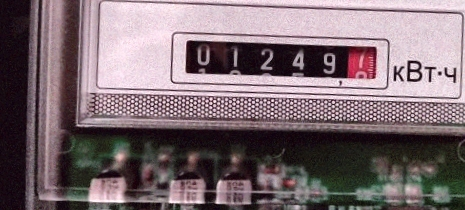0: (194, 40, 212, 67)
1: (226, 41, 241, 68)
2: (256, 46, 274, 72)
4: (289, 45, 306, 71)
7: (353, 43, 369, 70)
9: (318, 49, 337, 75)
screen: (166, 19, 394, 103)
